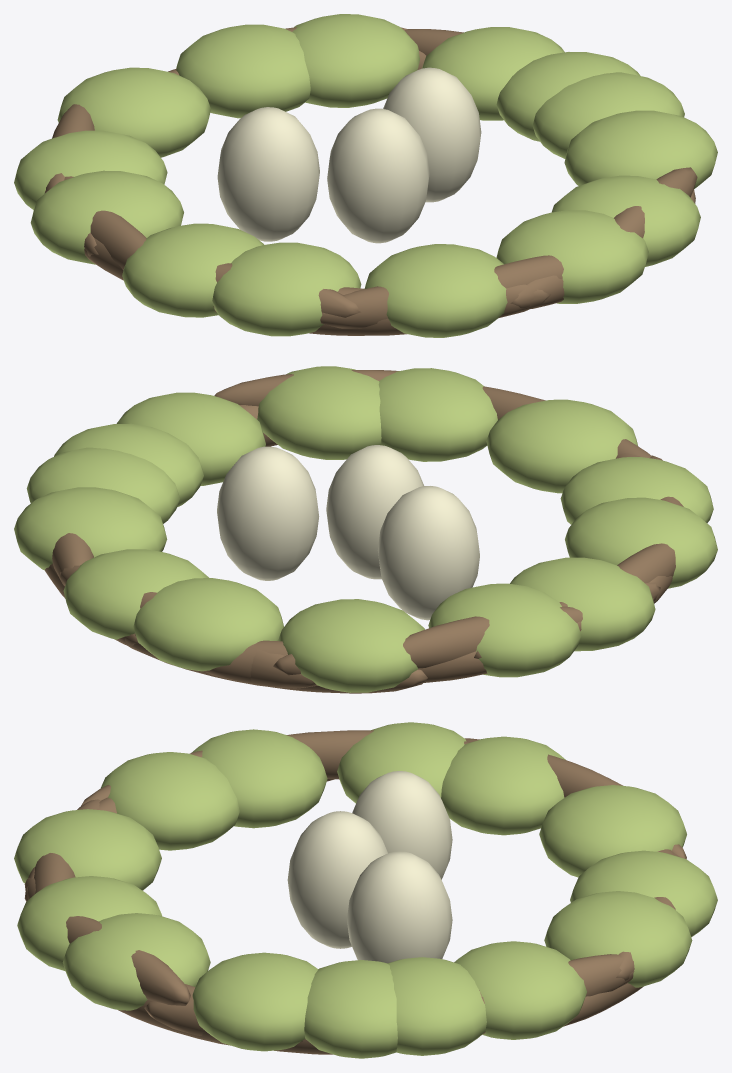
The model's file is nest.glb.
3 views of the same model, one above another, from view 1: azimuth 30°, elevation 25°; view 2: azimuth 150°, elevation 25°; view 3: azimuth 270°, elevation 25° (orthographic). The views are drawn at different scales.
Visible parts, largest first — view 1: Egg.001, Egg, Moss.006, Moss.001, Moss.002, Moss.010, Moss.011, Moss.007, Moss.008, Moss.009, Moss.004, Egg.002 (+15 smaller); view 2: Egg.002, Egg, Moss.002, Moss.007, Moss.006, Moss.003, Moss.011, Moss.012, Moss.009, Moss.005, Moss.004, Egg.001 (+13 smaller); view 3: Moss.008, Moss.012, Moss.001, Egg.002, Moss.005, Moss.007, Moss.010, Moss.003, Moss.009, Egg.001, Moss, Moss.006 (+13 smaller).
Part boxes in pixels (<box>): Egg.001: <box>327,108,429,243</box>; Egg: <box>217,107,319,241</box>; Moss.006: <box>364,244,507,337</box>; Moss.001: <box>212,242,361,336</box>; Moss.002: <box>176,24,310,118</box>; Moss.010: <box>292,14,419,107</box>; Moss.011: <box>496,210,648,303</box>; Moss.007: <box>57,67,210,157</box>; Moss.008: <box>564,110,717,189</box>; Moss.009: <box>122,223,264,317</box>; Moss.004: <box>30,170,183,264</box>; Egg.002: <box>383,67,481,202</box>; Egg.002: <box>217,446,319,580</box>; Egg: <box>377,486,479,620</box>; Moss.002: <box>133,578,283,671</box>; Moss.007: <box>278,599,424,692</box>; Moss.006: <box>486,399,637,493</box>; Moss.003: <box>257,366,381,459</box>; Moss.011: <box>378,368,497,461</box>; Moss.012: <box>428,583,581,677</box>; Moss.009: <box>565,497,717,588</box>; Moss.005: <box>14,487,167,570</box>; Moss.004: <box>510,557,655,651</box>; Egg.001: <box>326,445,423,579</box>; Moss.008: <box>192,952,318,1051</box>; Moss.012: <box>441,736,565,835</box>; Moss.001: <box>100,752,239,850</box>; Egg.002: <box>347,851,452,963</box>; Moss.005: <box>454,941,586,1039</box>; Moss.007: <box>539,785,686,877</box>; Moss.010: <box>544,891,692,987</box>; Moss.003: <box>62,913,210,1010</box>; Moss.009: <box>191,729,327,828</box>; Egg.001: <box>287,811,387,948</box>; Moss: <box>304,960,397,1058</box>; Moss.006: <box>14,809,161,890</box>.
Bounding box in the file's own units: 3.42 × 0.68 × 3.33.
